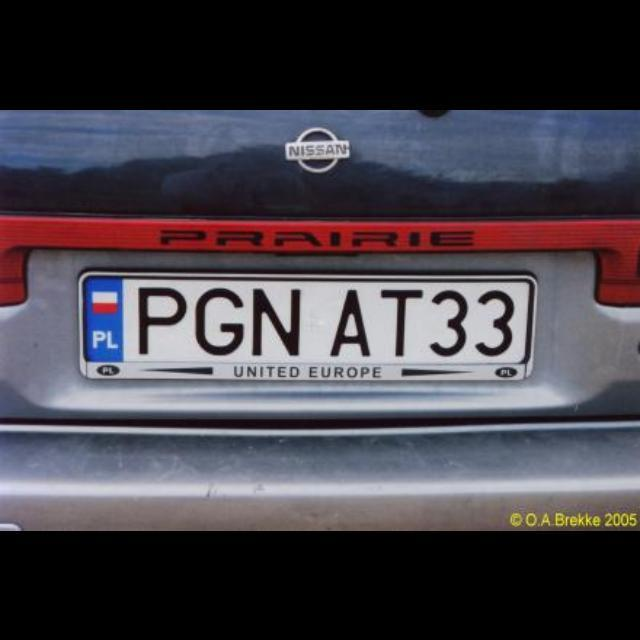license-plates: (80, 273, 537, 381)
